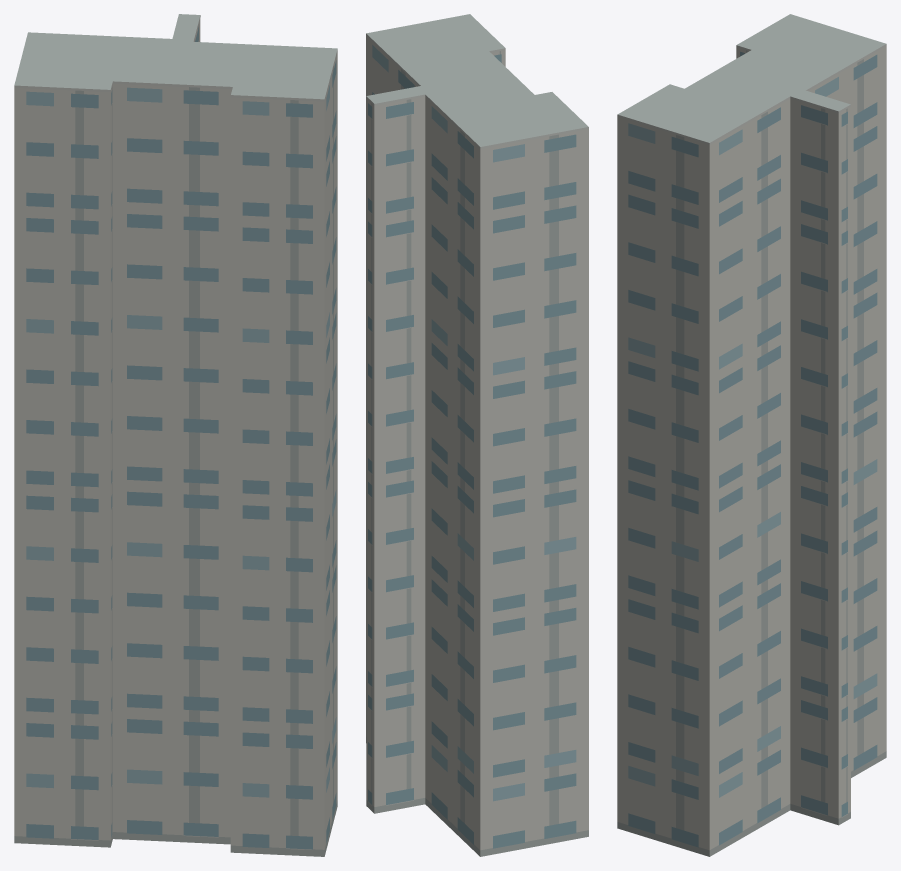
Rendered from residential-2423b0fb-ab62-4cf4-b8df-3aa2ff75f365.glb.
3 renders of one model, left to right at view 1: azimuth 30°, elevation 25°; view 2: azimuth 150°, elevation 25°; view 3: azimuth 270°, elevation 25°, orthographic. The views are drawn at different scales.
Visible parts, largest first — view 1: residential-2423b0fb-ab62-4cf4-b8df-3aa2ff75f365.tmp; view 2: residential-2423b0fb-ab62-4cf4-b8df-3aa2ff75f365.tmp; view 3: residential-2423b0fb-ab62-4cf4-b8df-3aa2ff75f365.tmp.
Boxes of the visible parts, box(x1,y1,x2,y2) form: residential-2423b0fb-ab62-4cf4-b8df-3aa2ff75f365.tmp: box(14, 14, 337, 856); residential-2423b0fb-ab62-4cf4-b8df-3aa2ff75f365.tmp: box(366, 14, 588, 856); residential-2423b0fb-ab62-4cf4-b8df-3aa2ff75f365.tmp: box(617, 14, 886, 856).
Size of the model in its own units: 32.57 by 84 by 28.71.
